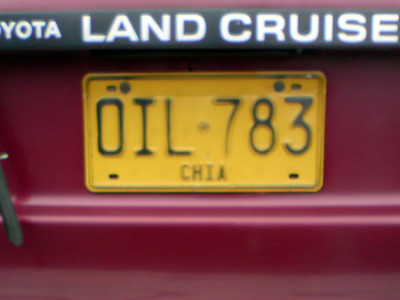placa_carro: (63, 59, 345, 208)
